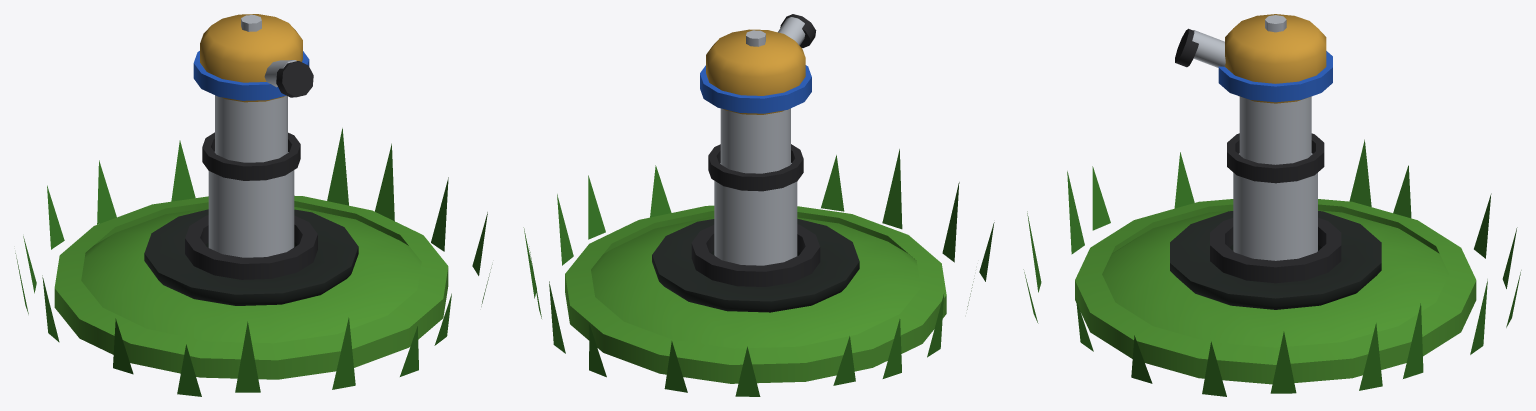
Rendered from sprinkler.glb.
3 renders of one model, left to right at view 1: azimuth 30°, elevation 25°; view 2: azimuth 150°, elevation 25°; view 3: azimuth 270°, elevation 25°, orthographic. The views are drawn at different scales.
Parts seen in each view (by area): view 1: sprinkler_mesh; view 2: sprinkler_mesh; view 3: sprinkler_mesh.
Boxes of the visible parts, x1,y1,x2,y2 form: sprinkler_mesh: [15, 14, 492, 396]; sprinkler_mesh: [523, 14, 994, 396]; sprinkler_mesh: [1023, 14, 1521, 396].
Size of the model in its own units: 0.4372 by 0.285 by 0.4592.
